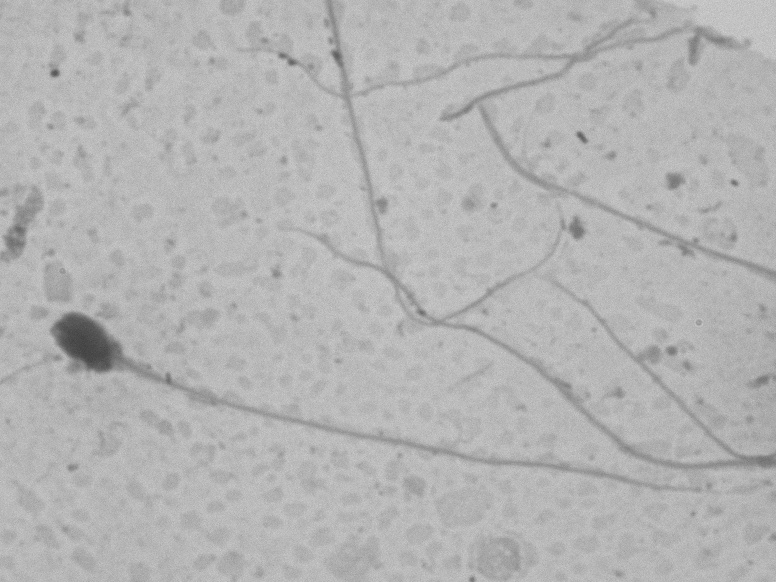Abnormal: (36, 298, 765, 521)
